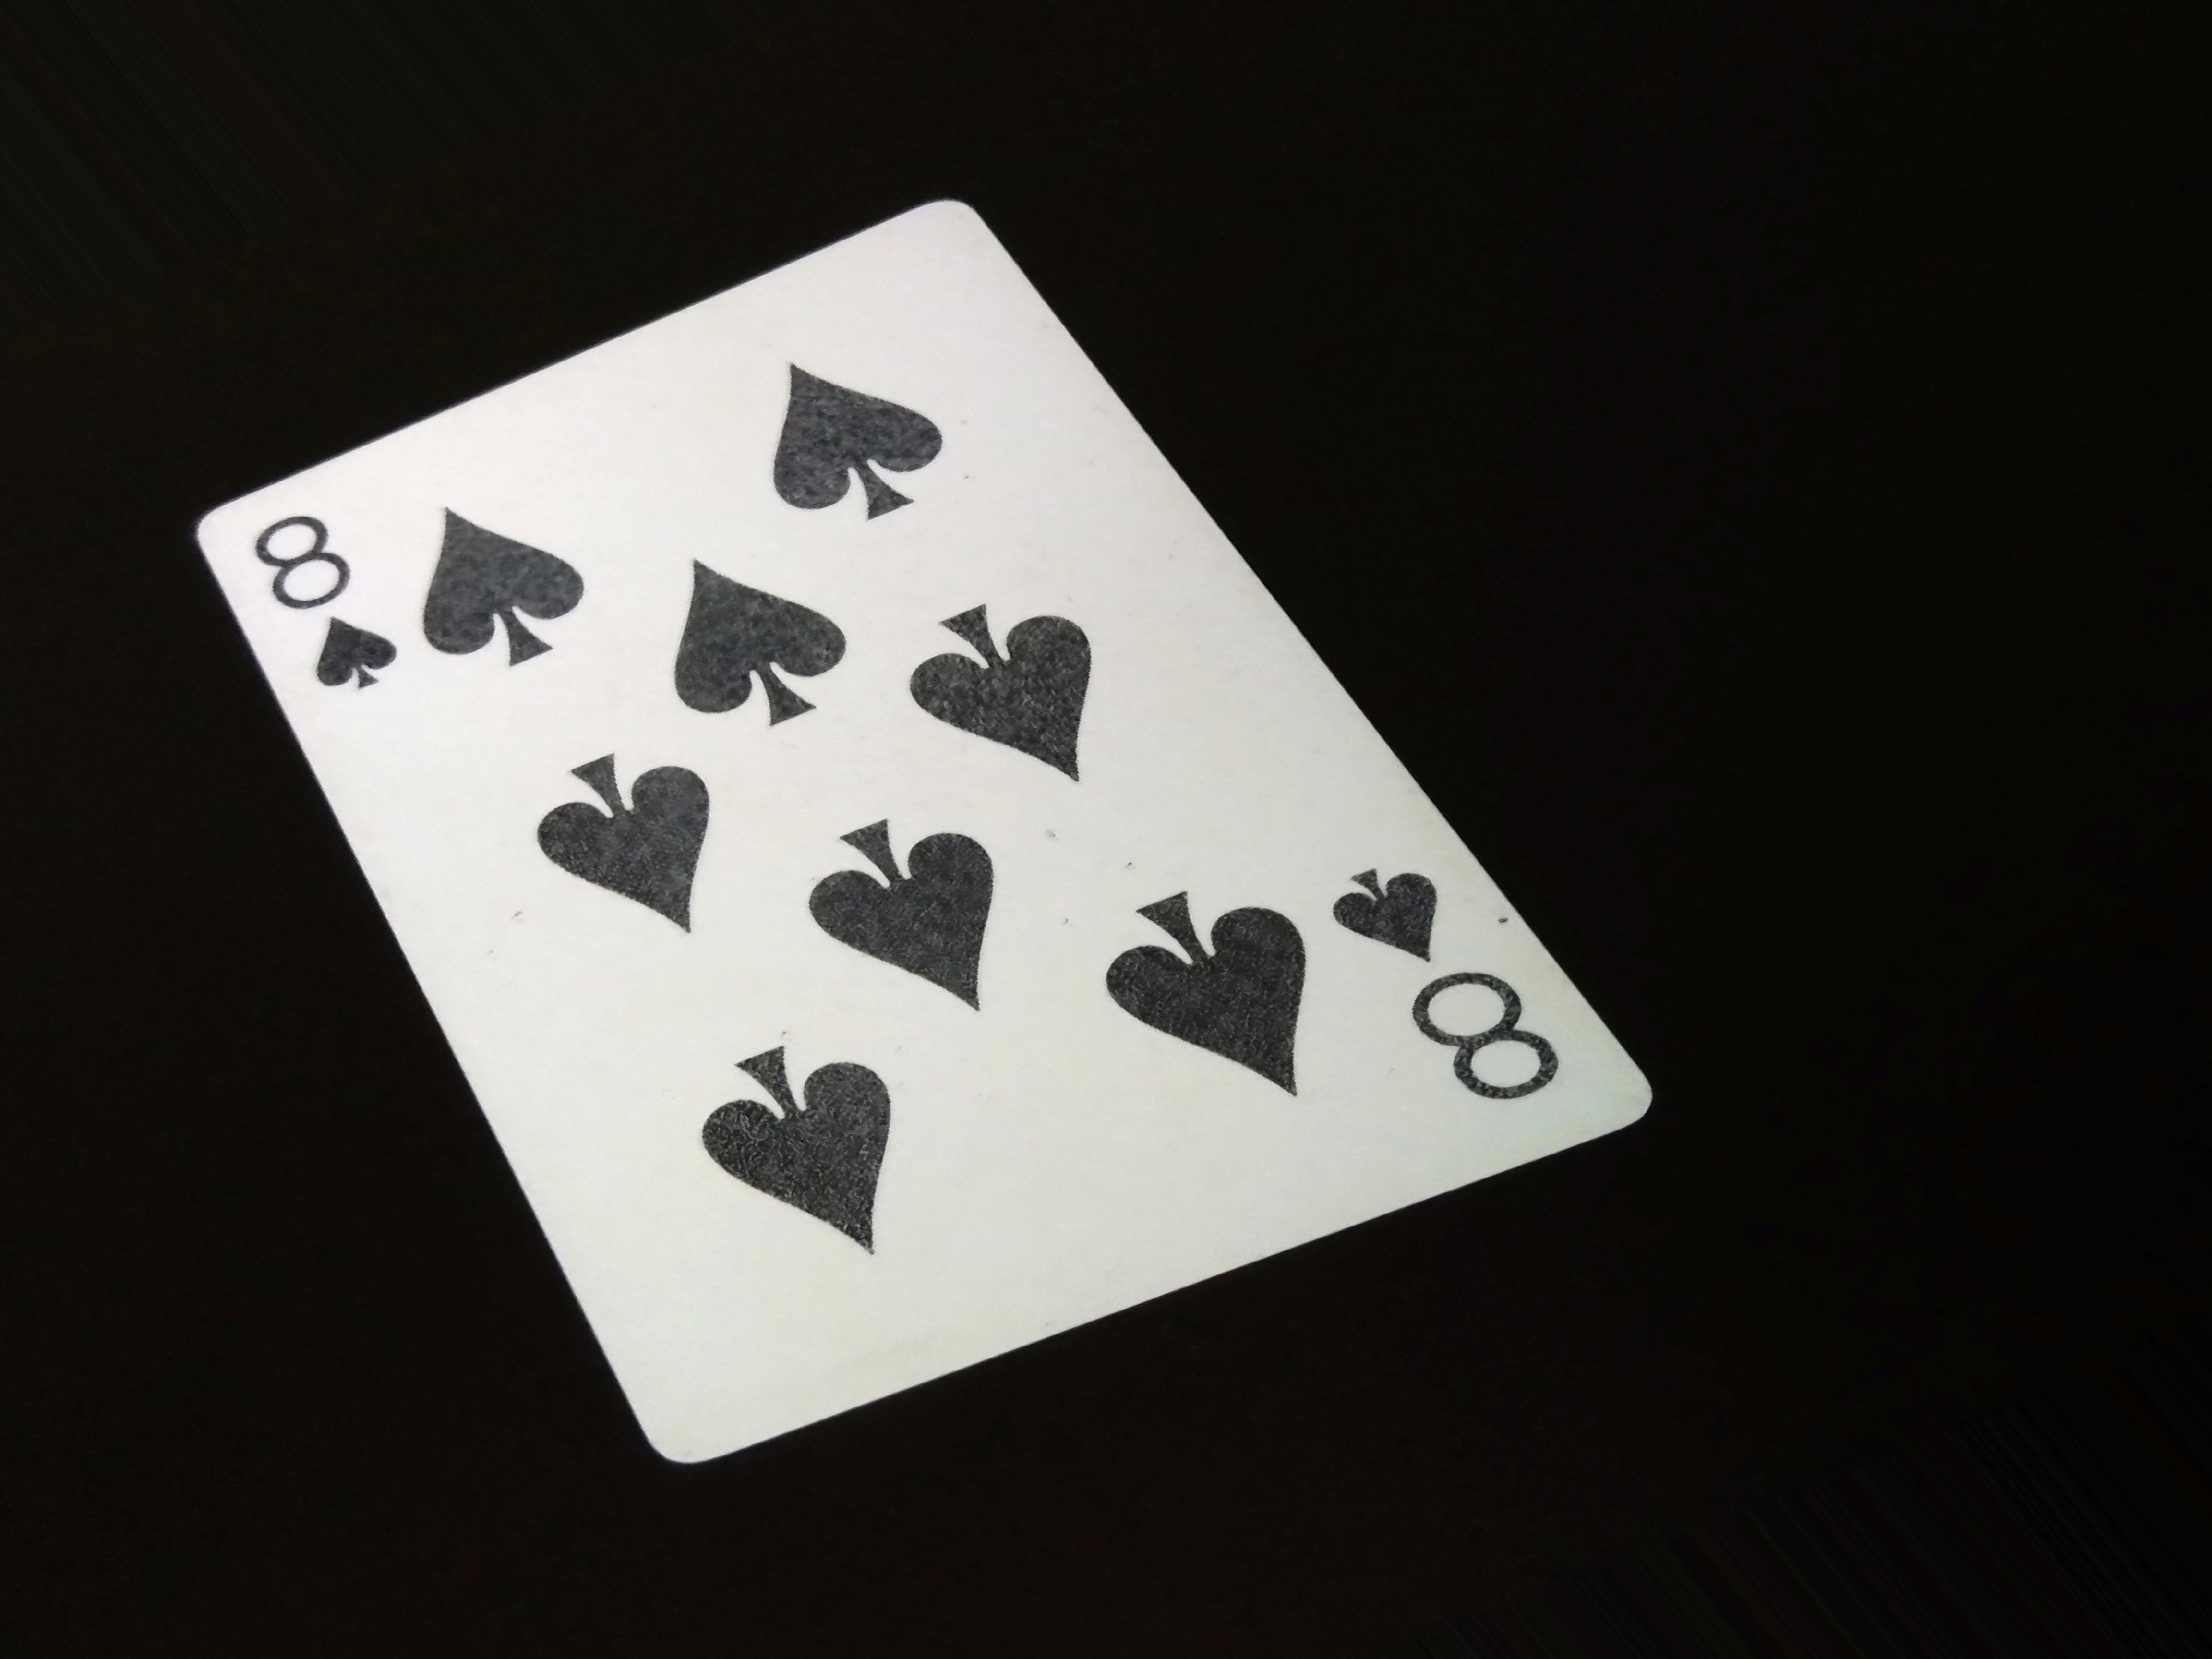8S: (239, 511, 388, 720)
